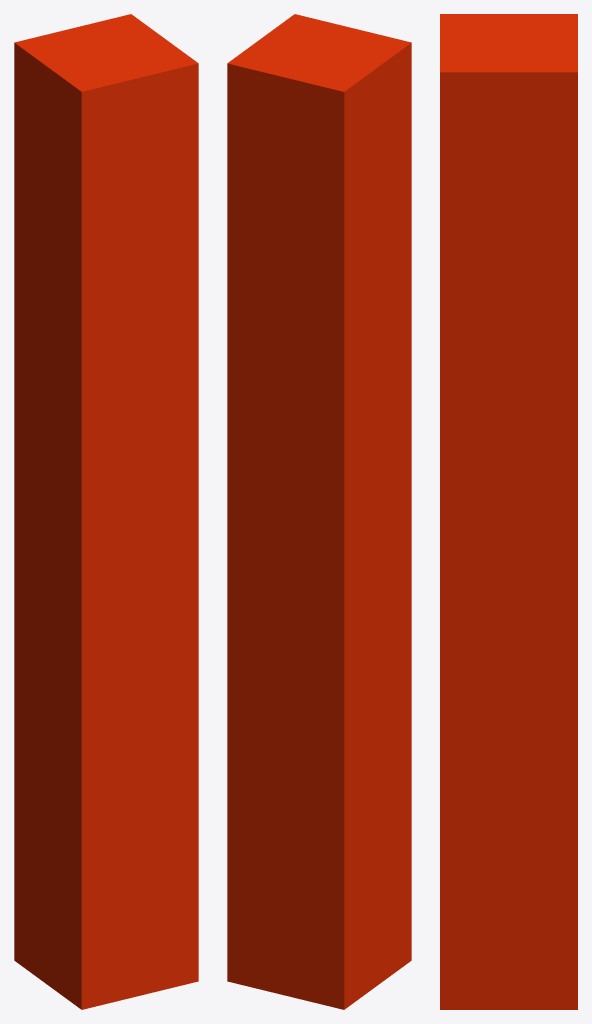
The model's file is cs_knot.glb.
The picture shows the model from 3 angles, left to right: view 1: azimuth 30°, elevation 25°; view 2: azimuth 150°, elevation 25°; view 3: azimuth 270°, elevation 25°; orthographic projection. The views are drawn at different scales.
Parts seen in each view (by area): view 1: cs_knot; view 2: cs_knot; view 3: cs_knot.
Boxes of the visible parts, x1,y1,x2,y2 form: cs_knot: [14, 14, 198, 1009]; cs_knot: [227, 14, 411, 1009]; cs_knot: [440, 14, 577, 1009].
Bounding box in the file's own units: 0.4 × 3 × 0.4.
1 material, 1 textured.
